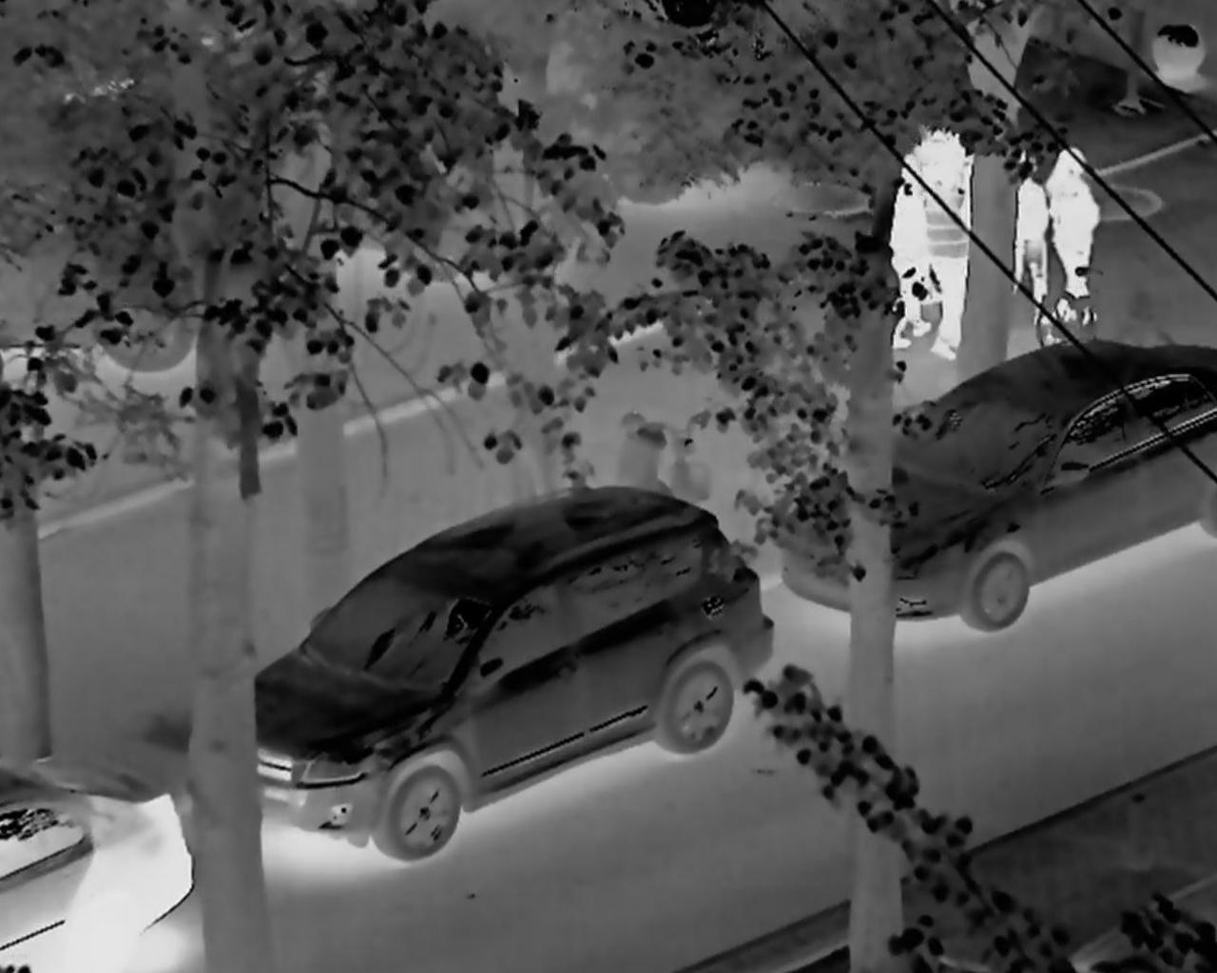person: (1042, 137, 1109, 336), (872, 141, 930, 353), (925, 131, 973, 356), (1007, 161, 1056, 325)
